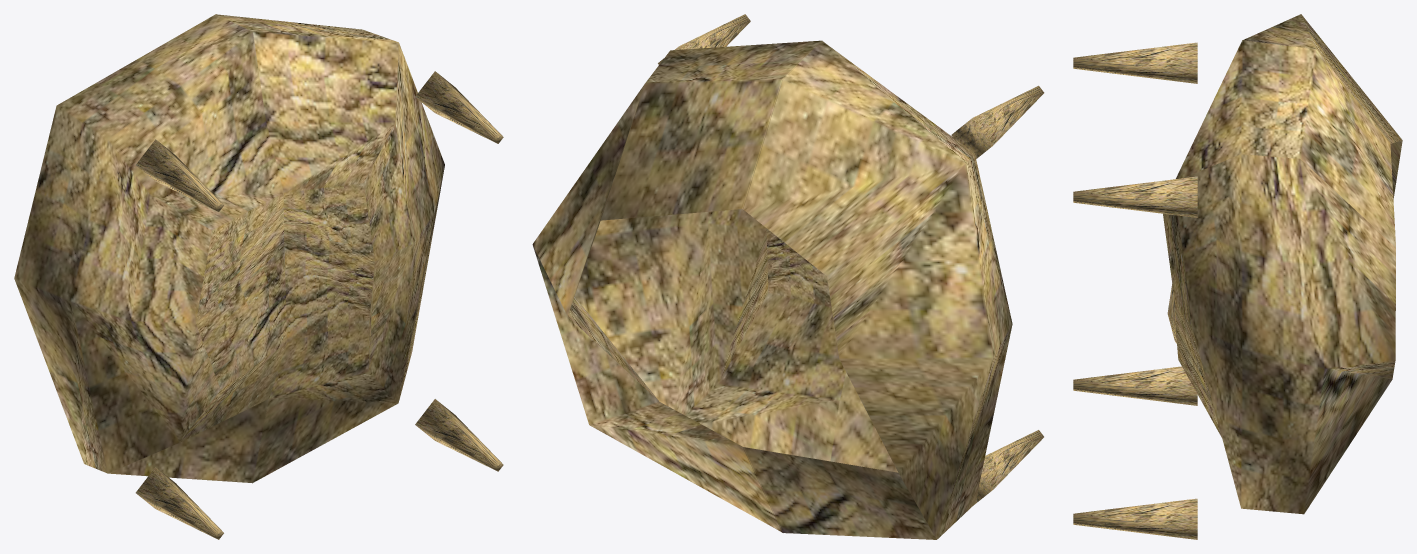
Rendered from stone_000023.obj.
3 views of the same model, side by side, from view 1: azimuth 30°, elevation 25°; view 2: azimuth 150°, elevation 25°; view 3: azimuth 270°, elevation 25° (orthographic). The views are drawn at different scales.
Parts seen in each view (by area): view 1: Cube, Cube.001, Cylinder.003, Cylinder, Cylinder.002, Cylinder.001; view 2: Cube.001, Cube, Cylinder, Cylinder.001, Cylinder.003; view 3: Cube.001, Cube, Cylinder.003, Cylinder, Cylinder.002, Cylinder.001.
Part boxes in pixels (x1,y1,x2,y2): Cube: (14, 14, 287, 482); Cube.001: (215, 14, 444, 483); Cylinder.003: (415, 71, 503, 143); Cylinder: (135, 139, 223, 211); Cylinder.002: (415, 399, 503, 471); Cylinder.001: (135, 467, 223, 539); Cube.001: (532, 40, 846, 532); Cube: (742, 40, 1012, 539); Cylinder: (951, 85, 1044, 158); Cylinder.001: (975, 430, 1043, 503); Cylinder.003: (658, 14, 750, 64); Cube.001: (1163, 40, 1395, 514); Cube: (1167, 14, 1402, 343); Cylinder.003: (1073, 176, 1197, 217); Cylinder: (1073, 42, 1197, 83); Cylinder.002: (1073, 498, 1197, 539); Cylinder.001: (1073, 366, 1197, 405).
Bounding box in the file's own units: 6.65 × 6.59 × 4.44.
